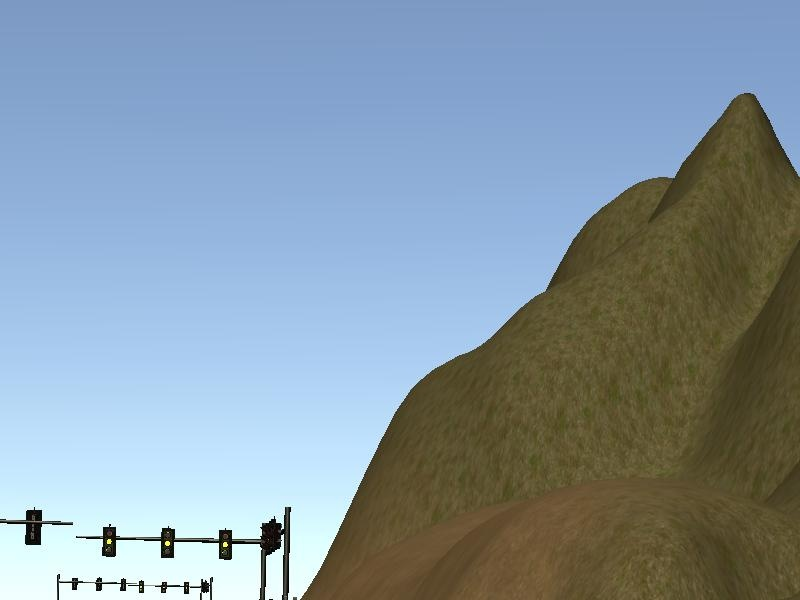yellow: (160, 528, 176, 557), (218, 528, 232, 560), (102, 527, 116, 556)
